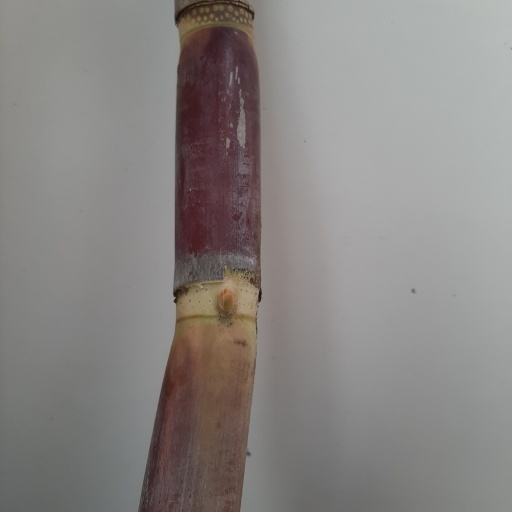Bud: (215, 288, 236, 320)
